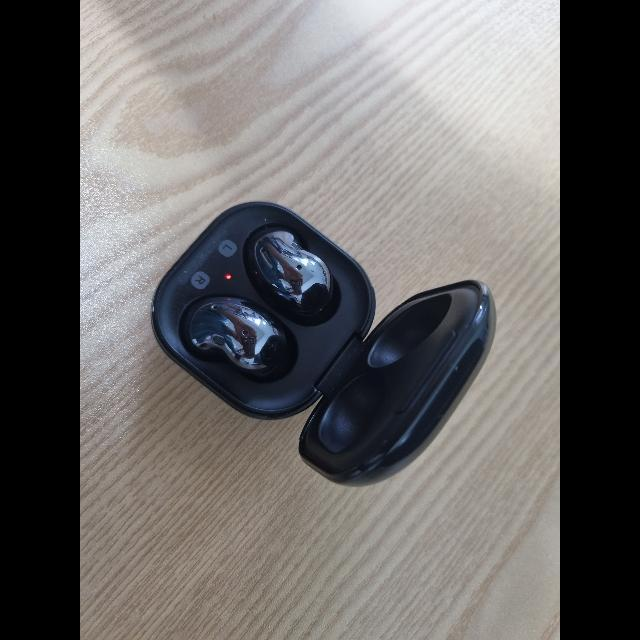buds_live: (149, 199, 499, 493)
